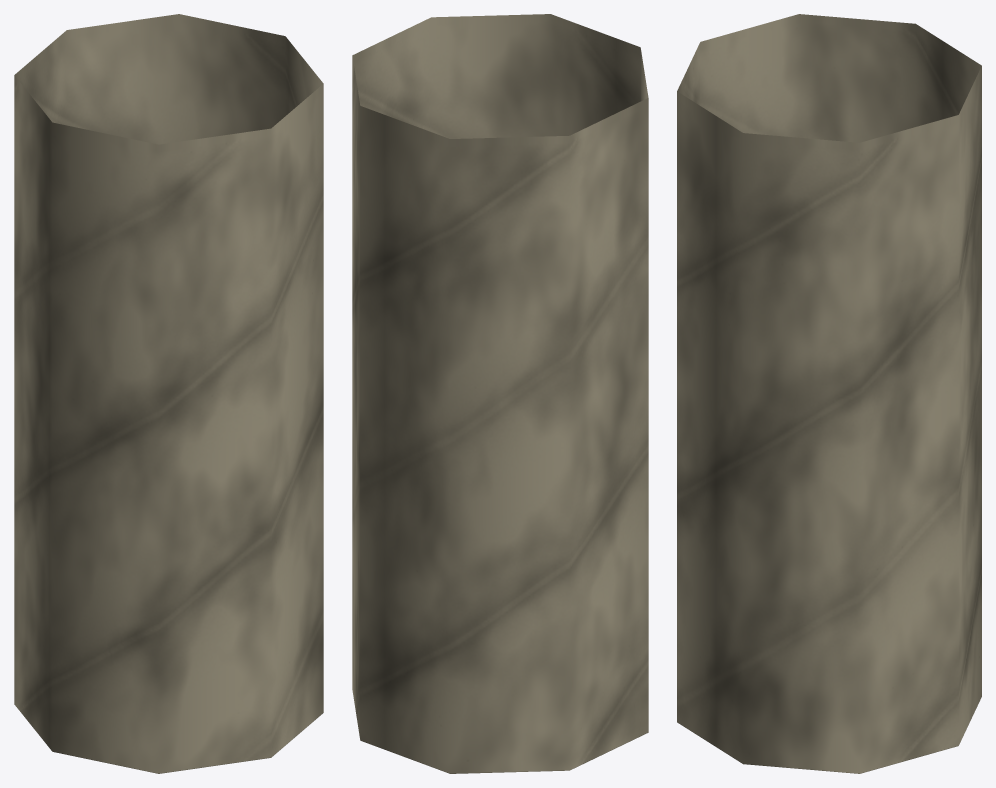
File: rope.glb
3 renders of one model, left to right at view 1: azimuth 30°, elevation 25°; view 2: azimuth 150°, elevation 25°; view 3: azimuth 270°, elevation 25°, orthographic.
Parts seen in each view (by area): view 1: rope; view 2: rope; view 3: rope.
Boxes of the visible parts, box(x1,y1,x2,y2) form: rope: box(14, 14, 323, 773); rope: box(352, 14, 648, 773); rope: box(677, 14, 981, 773).
Size of the model in its own units: 0.174 by 0.3975 by 0.174.
1 material, 1 textured.
